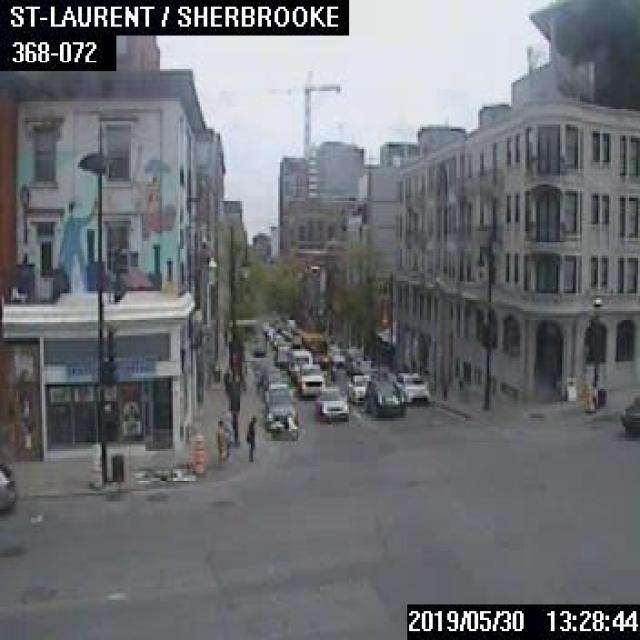construction: (87, 444, 100, 486), (191, 433, 202, 473)
pedestrian: (215, 414, 229, 466), (244, 411, 256, 461)
vehicle: (362, 372, 405, 414), (313, 386, 347, 420), (394, 371, 427, 404), (262, 394, 297, 425), (295, 360, 326, 394), (287, 347, 312, 382), (265, 412, 297, 439), (346, 373, 370, 403), (0, 462, 13, 514), (622, 396, 638, 434), (263, 382, 292, 400), (330, 352, 346, 378)
